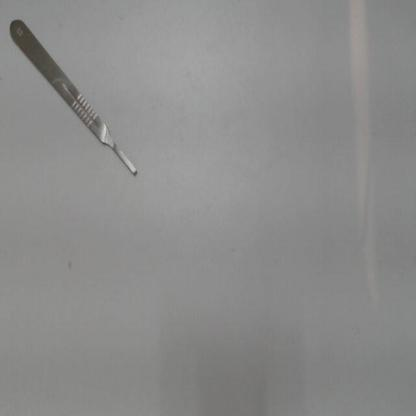No.4 BP Handle: (7, 15, 143, 179)
